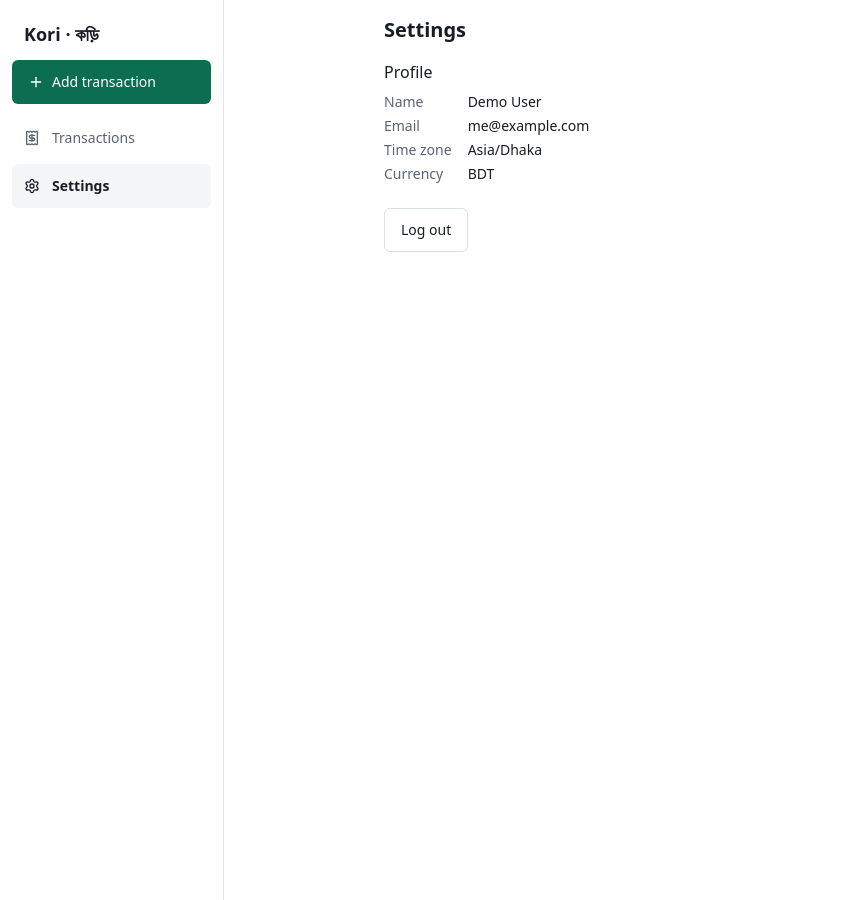
Scenario: route guard and logout › logout clears the session and goes to login
Click the button "Log out": (426, 230) [384, 208, 468, 252]
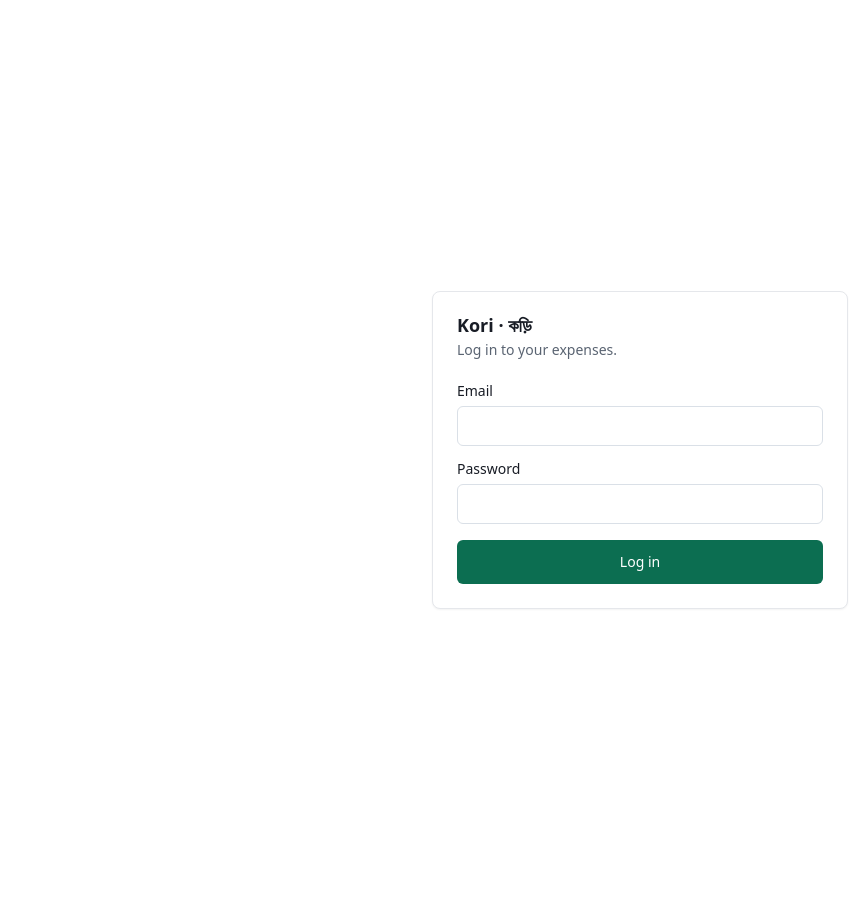
Result: the field labelled "Email" is shown at [457, 406, 823, 446]
Result: the text "Demo User" is gone
